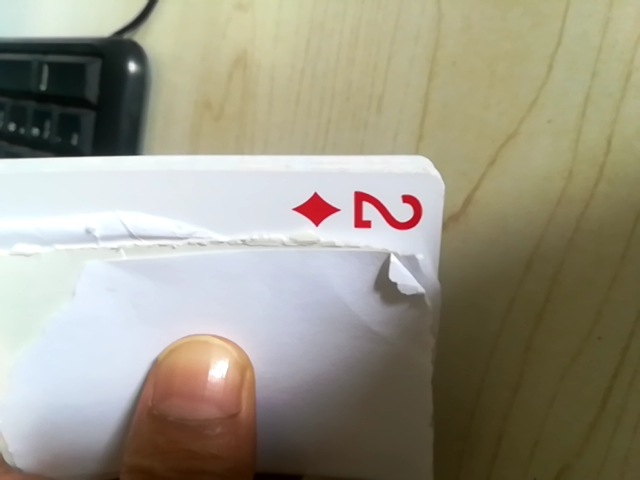fk 2: (281, 174, 446, 253)
